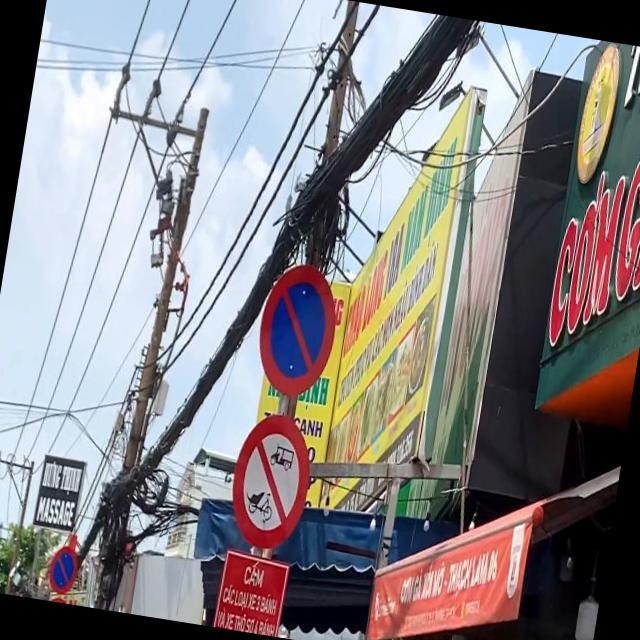P-131a: (252, 258, 343, 398)
